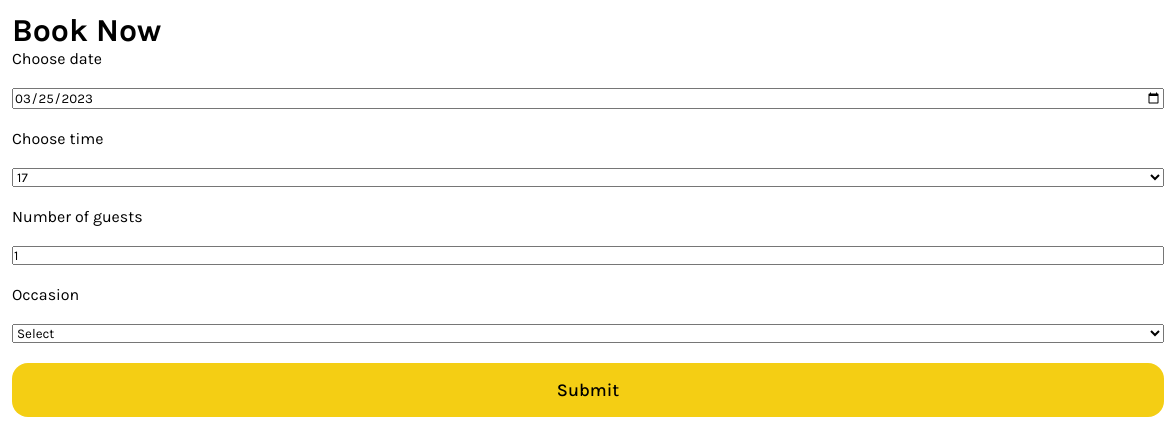
Invalid number of guests shows error message
Step 1. Type "11" into the number field labelled "Number of guests" → (588, 256), box left=12, top=246, right=1164, bottom=265
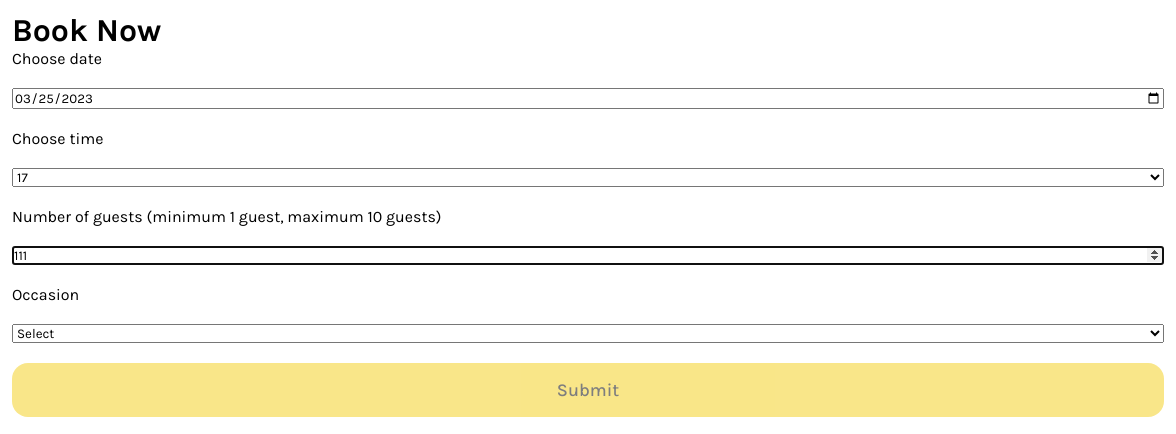
Now the text "(minimum 1 guest, maximum 10 guests)" is shown, box left=146, top=207, right=442, bottom=226
